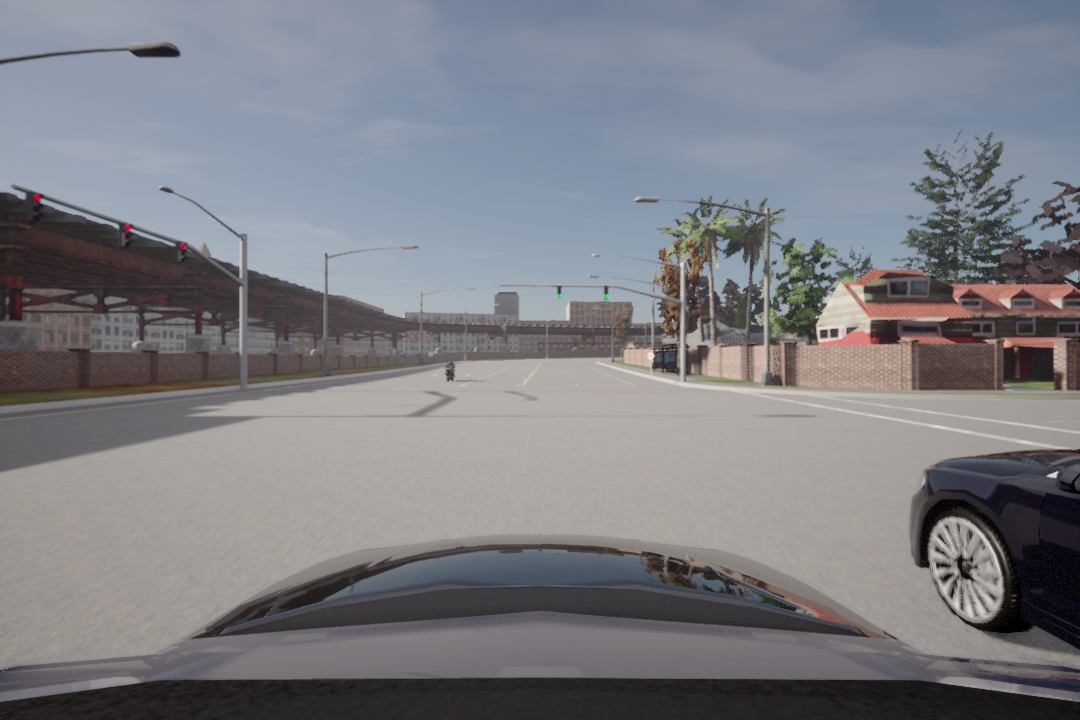TrafficLight: (24, 187, 45, 223), (117, 221, 135, 251), (175, 237, 190, 264), (554, 283, 564, 301), (602, 285, 611, 302)
